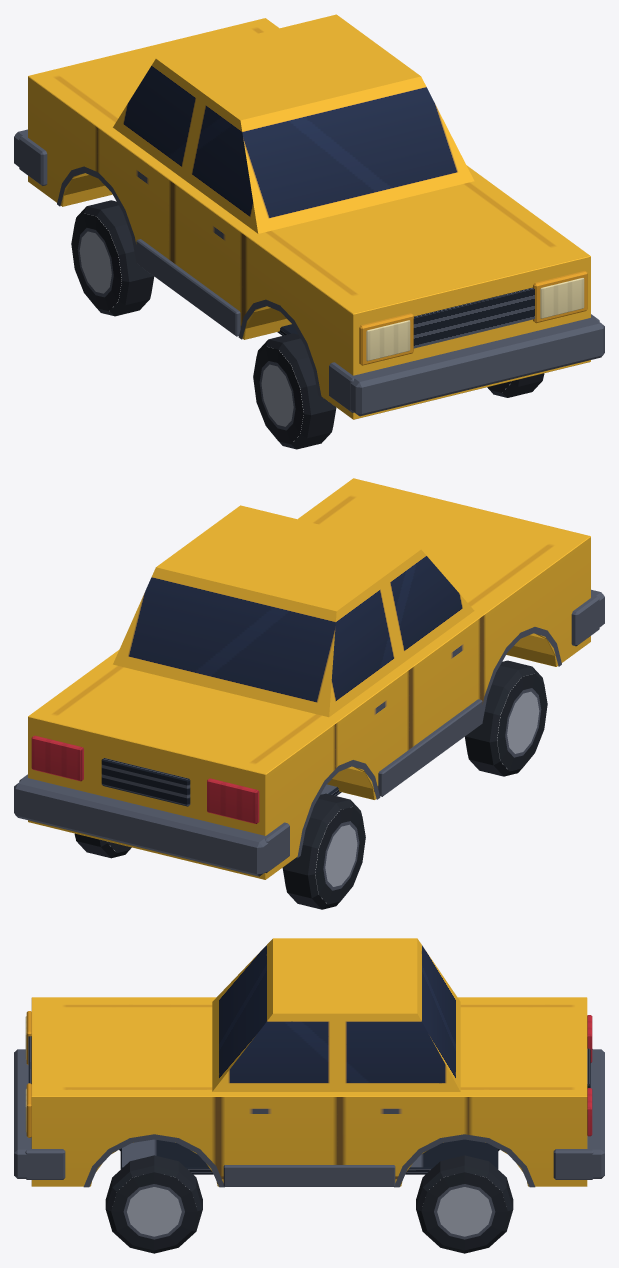
Rendered from player-sedan.glb.
3 views of the same model, one above another, from view 1: azimuth 30°, elevation 25°; view 2: azimuth 150°, elevation 25°; view 3: azimuth 270°, elevation 25° (orthographic). The views are drawn at different scales.
Parts seen in each view (by area): view 1: body, wheel-front-left, wheel-rear-left, wheel-front-right; view 2: body, wheel-rear-left, wheel-front-left, wheel-rear-right; view 3: body, wheel-front-right, wheel-rear-right.
Part boxes in pixels (<box>): body: <box>14,14,604,419</box>; wheel-front-left: <box>253,333,336,449</box>; wheel-rear-left: <box>71,200,154,316</box>; wheel-front-right: <box>487,373,544,397</box>; body: <box>14,478,604,879</box>; wheel-rear-left: <box>282,793,365,909</box>; wheel-front-left: <box>465,660,547,776</box>; wheel-rear-right: <box>74,833,131,858</box>; body: <box>14,938,604,1187</box>; wheel-front-right: <box>105,1155,202,1253</box>; wheel-rear-right: <box>416,1155,513,1253</box>.
Size of the model in its own units: 1.82 by 1.87 by 4.38.
Materials: 1 (1 with a texture image).
